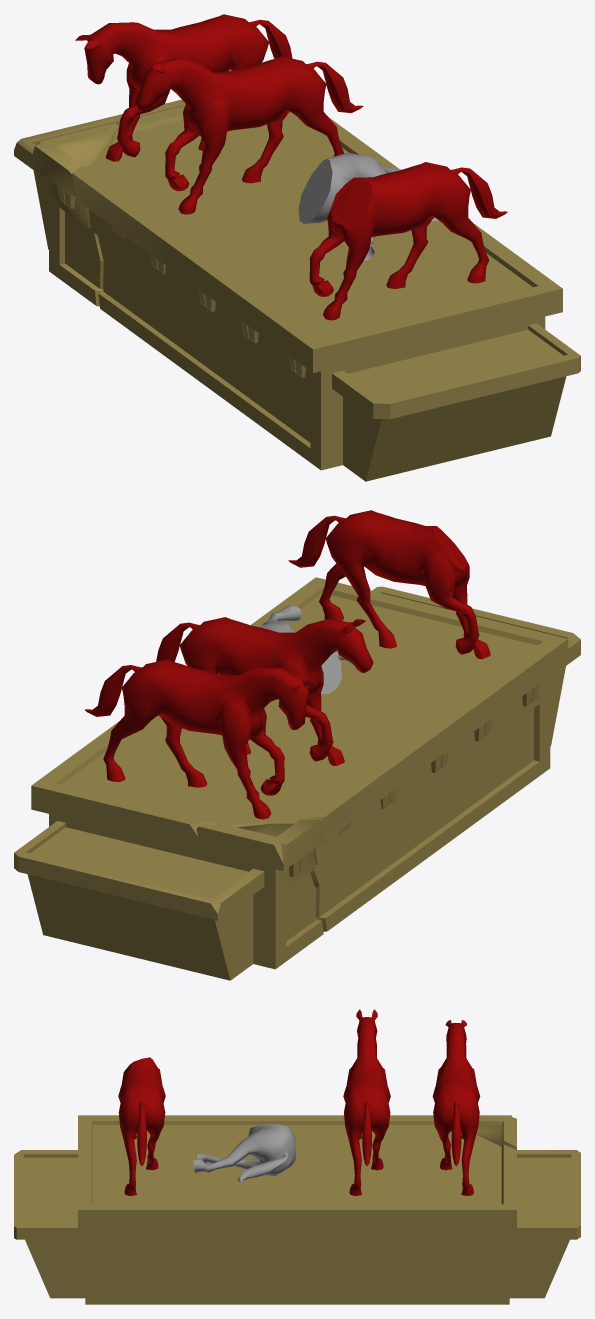
Rendered from SM_Map001_HorseStatue.fbx.
3 renders of one model, top to bottom at view 1: azimuth 30°, elevation 25°; view 2: azimuth 150°, elevation 25°; view 3: azimuth 270°, elevation 25°, orthographic. The views are drawn at different scales.
Parts seen in each view (by area): view 1: SM_map001_horsestatue002; view 2: SM_map001_horsestatue002; view 3: SM_map001_horsestatue002.
Part boxes in pixels (box(x1,y1,x2,y2)): SM_map001_horsestatue002: box(14, 14, 580, 481); SM_map001_horsestatue002: box(14, 510, 580, 980); SM_map001_horsestatue002: box(14, 1009, 580, 1304).
Bounding box in the file's own units: 5.45 × 5.74 × 13.74.
